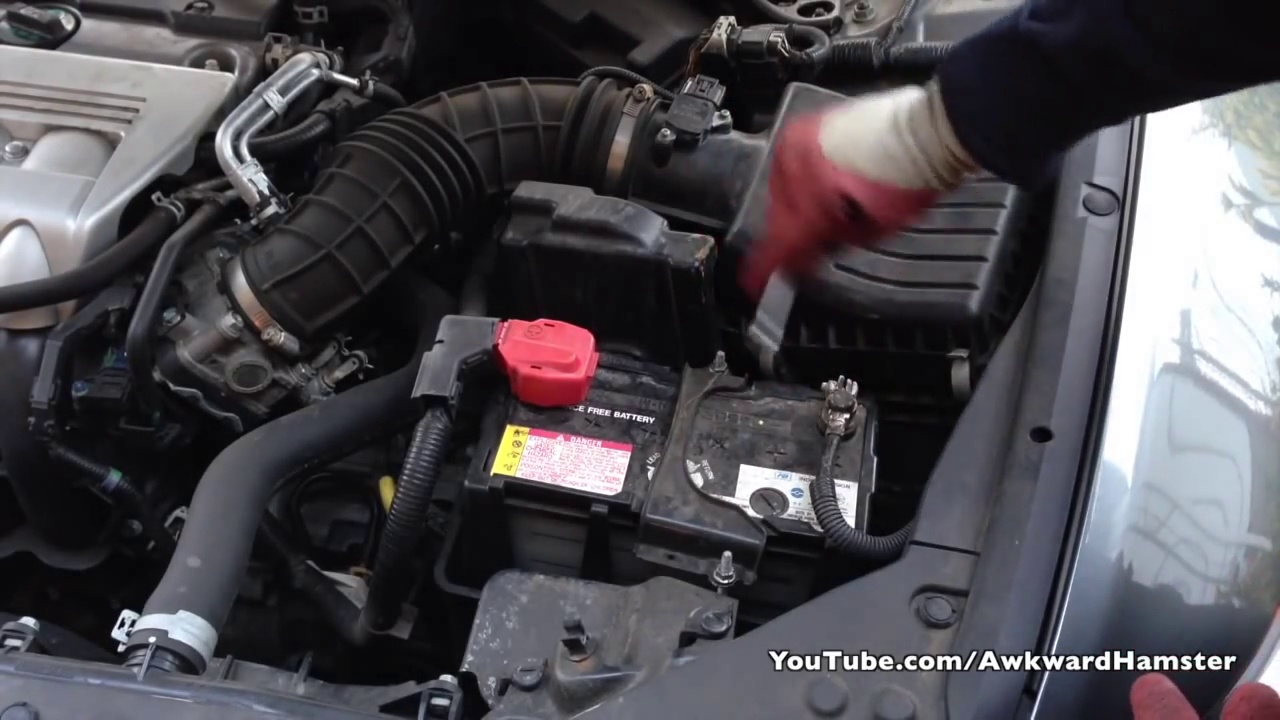battery: (465, 324, 871, 544)
neg_connected: (788, 360, 889, 470)
pos_connected: (417, 275, 609, 416)
